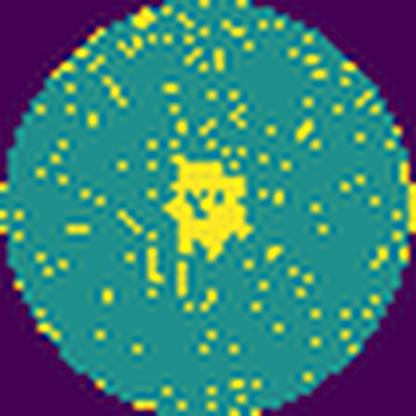Center: (160, 151, 258, 259)
